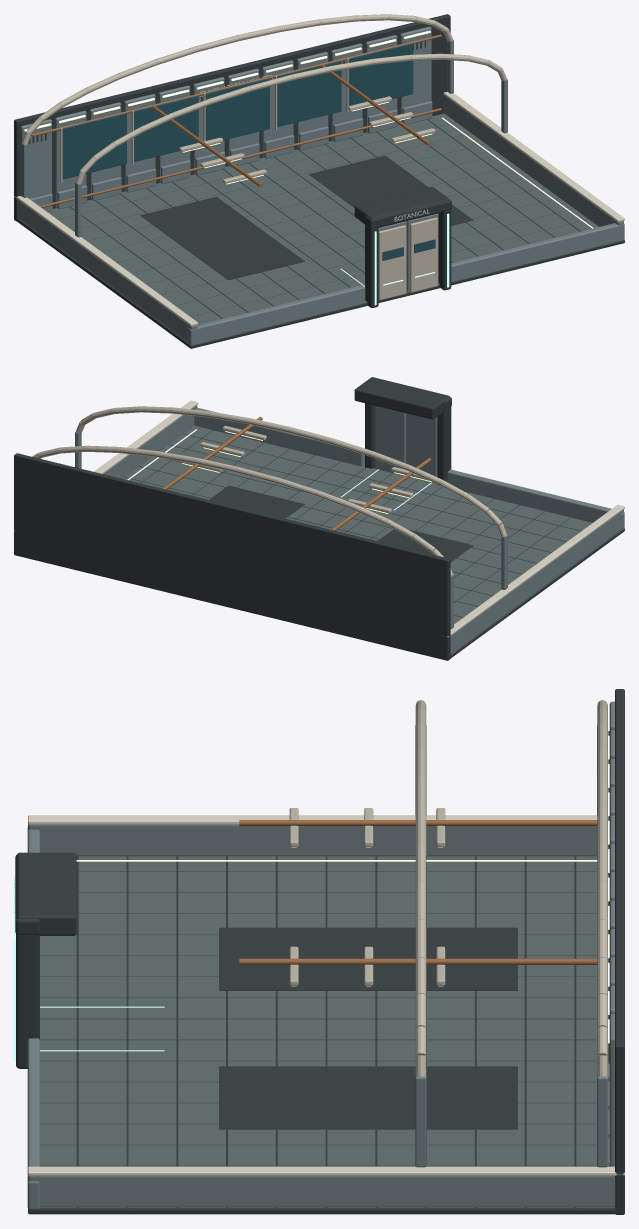
Rendered from greenhouse-shell.glb.
The picture shows the model from 3 angles, top to bottom: view 1: azimuth 30°, elevation 25°; view 2: azimuth 150°, elevation 25°; view 3: azimuth 270°, elevation 25°; orthographic projection. The views are drawn at different scales.
Visible parts, largest first — view 1: Floor_Floor, InteriorRevealBack_Steel, InteriorRevealGlazing_Glass, Floor_Graphite, InteriorRevealRail_Steel, InteriorRevealBack_Graphite, InteriorRevealConservatory_Ivory, CutawayEntrance_Graphite, InteriorRevealRail_Edge, InteriorRevealBack_Copper, DoorLeft_Ivory, DoorRight_Ivory (+5 smaller); view 2: InteriorRevealBack_Graphite, Floor_Floor, InteriorRevealRail_Steel, InteriorRevealConservatory_Ivory, Floor_Graphite, CutawayEntrance_Graphite, InteriorRevealRail_Edge, DoorRight_Steel, DoorLeft_Steel, InteriorRevealIrrigation_Ivory, InteriorRevealIrrigation_Copper, InteriorRevealConservatory_Steel; view 3: Floor_Floor, Floor_Graphite, InteriorRevealRail_Steel, InteriorRevealRail_Edge, InteriorRevealConservatory_Ivory, CutawayEntrance_Graphite, InteriorRevealBack_Graphite, InteriorRevealIrrigation_Copper, InteriorRevealBack_Steel, InteriorRevealConservatory_Steel, InteriorRevealIrrigation_Ivory, Floor_Warm.
Part boxes in pixels (<box>): Floor_Floor: <box>17,113,598,342</box>; InteriorRevealBack_Steel: <box>20,26,432,212</box>; InteriorRevealGlazing_Glass: <box>62,43,413,179</box>; Floor_Graphite: <box>14,120,624,348</box>; InteriorRevealRail_Steel: <box>17,95,624,345</box>; InteriorRevealBack_Graphite: <box>14,14,450,221</box>; InteriorRevealConservatory_Ivory: <box>22,14,506,183</box>; CutawayEntrance_Graphite: <box>354,187,451,307</box>; InteriorRevealRail_Edge: <box>14,91,624,326</box>; InteriorRevealBack_Copper: <box>31,34,441,207</box>; DoorLeft_Ivory: <box>378,225,406,300</box>; DoorRight_Ivory: <box>410,217,437,292</box>; InteriorRevealBack_Graphite: <box>14,453,450,660</box>; Floor_Floor: <box>122,425,620,654</box>; InteriorRevealRail_Steel: <box>103,405,624,653</box>; InteriorRevealConservatory_Ivory: <box>32,406,506,575</box>; Floor_Graphite: <box>141,430,624,659</box>; CutawayEntrance_Graphite: <box>354,377,451,485</box>; InteriorRevealRail_Edge: <box>14,400,624,637</box>; DoorRight_Steel: <box>374,405,406,475</box>; DoorLeft_Steel: <box>406,413,437,483</box>; InteriorRevealIrrigation_Ivory: <box>179,425,429,513</box>; InteriorRevealIrrigation_Copper: <box>162,416,431,530</box>; InteriorRevealConservatory_Steel: <box>75,432,507,628</box>; Floor_Floor: <box>39,856,615,1208</box>; Floor_Graphite: <box>28,856,624,1214</box>; InteriorRevealRail_Steel: <box>27,824,615,1209</box>; InteriorRevealRail_Edge: <box>28,815,624,1175</box>; InteriorRevealConservatory_Ivory: <box>415,700,607,1076</box>; CutawayEntrance_Graphite: <box>15,852,76,1068</box>; InteriorRevealBack_Graphite: <box>608,689,624,1214</box>; InteriorRevealIrrigation_Copper: <box>239,820,597,964</box>; InteriorRevealBack_Steel: <box>608,701,614,1166</box>; InteriorRevealConservatory_Steel: <box>415,725,608,1167</box>; InteriorRevealIrrigation_Ivory: <box>289,808,445,985</box>; Floor_Warm: <box>76,860,597,861</box>.
Size of the model in its own units: 17 by 5.1 by 12.28.
